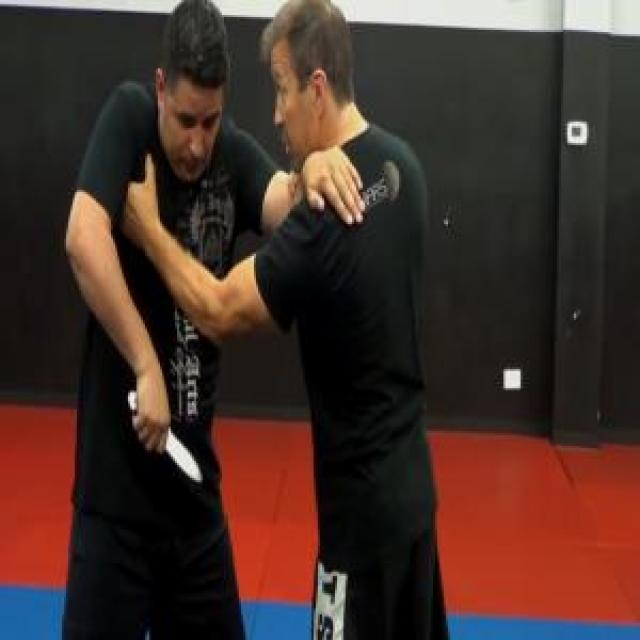knife: (126, 384, 206, 491)
